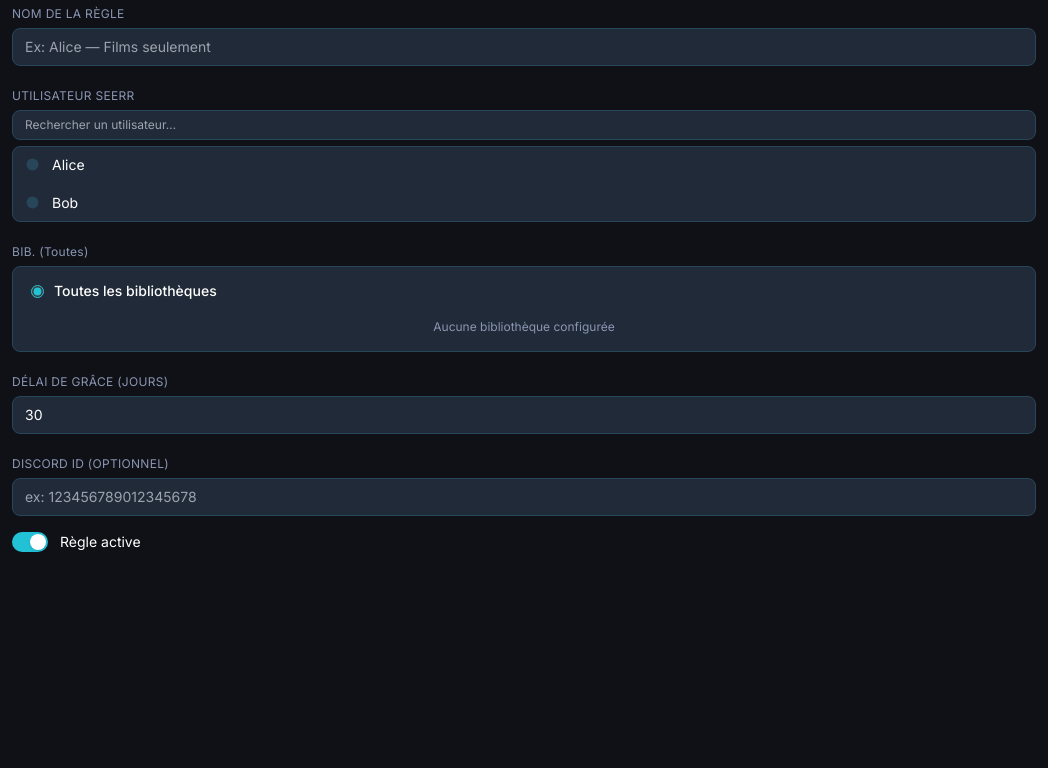
Test: SimpleRuleForm › filters the user list by the search box (case-insensitive substring match)
Type "ali" into the field with placeholder "Rechercher un utilisateur…". click: (524, 125)
box: top-left (12, 110), bottom-right (1036, 140)
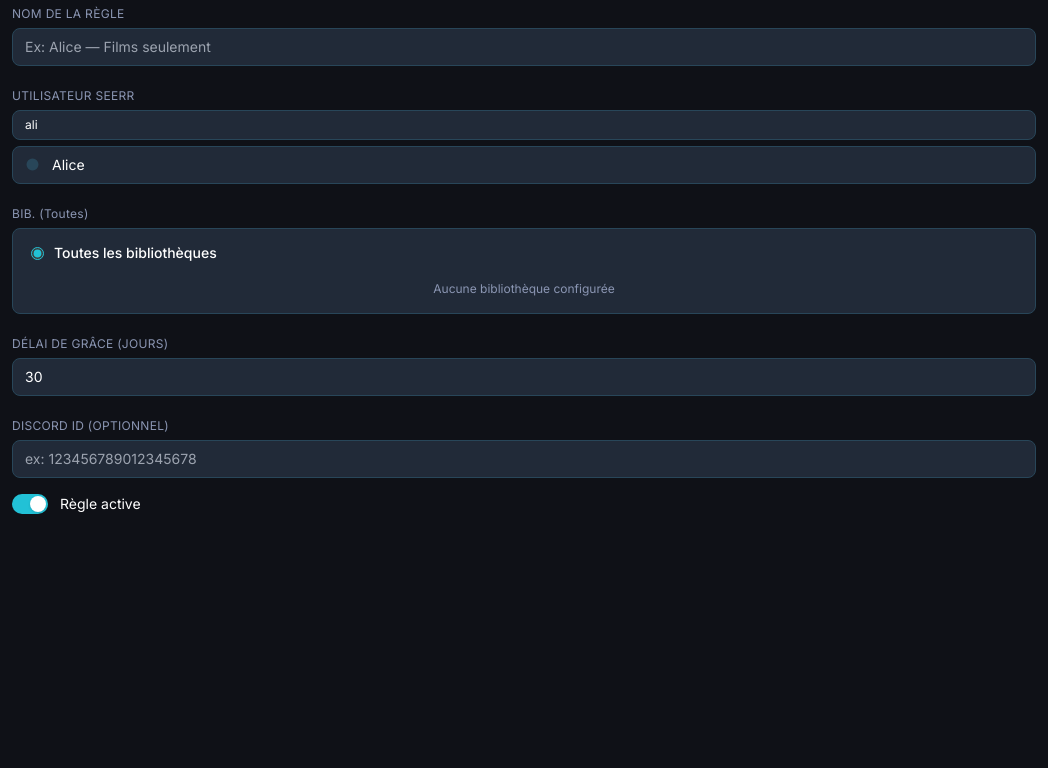
Expected: the text "Alice" is shown, top-left (52, 156), bottom-right (85, 173)
Now the text "Bob" is gone
